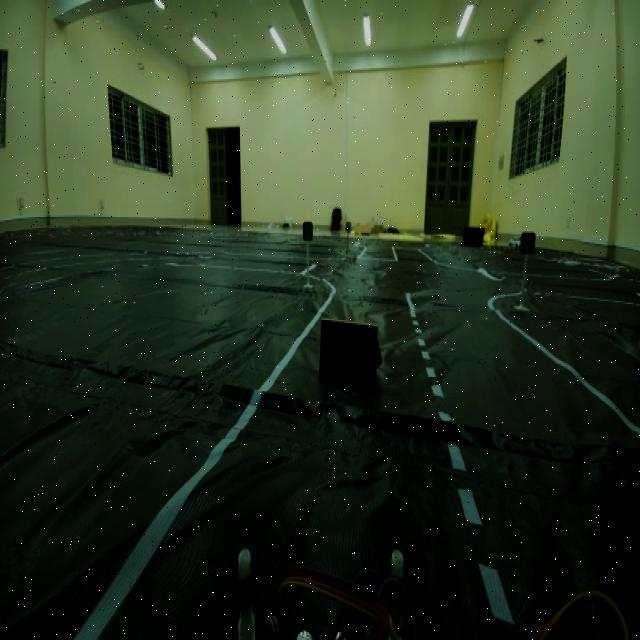roadblock: (309, 303, 398, 400)
